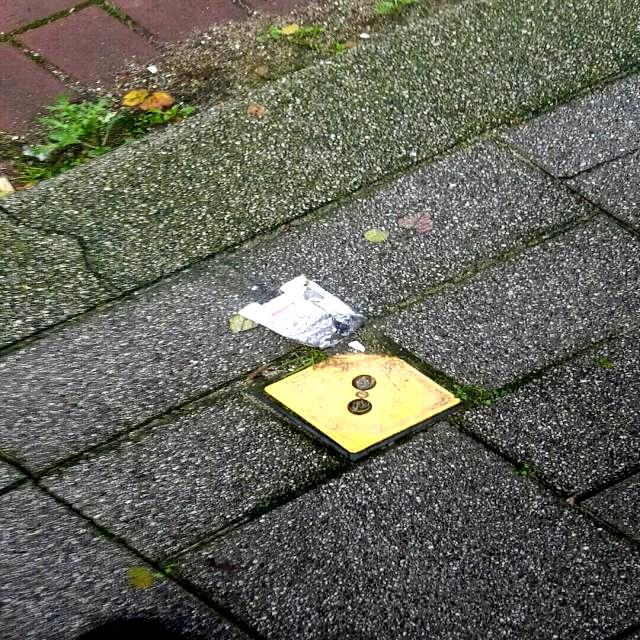Paper: (234, 275, 370, 351)
